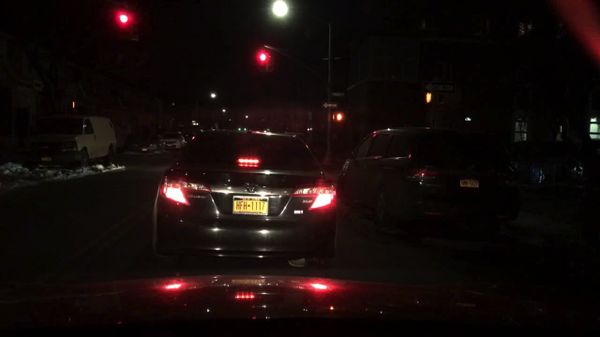car: (150, 126, 341, 272), (338, 124, 530, 250), (37, 114, 119, 167), (162, 131, 187, 151), (132, 132, 157, 152)
traffic light: (258, 51, 265, 69), (117, 13, 128, 24), (333, 112, 344, 122), (268, 55, 274, 73)
traffic sign: (323, 102, 336, 109)
